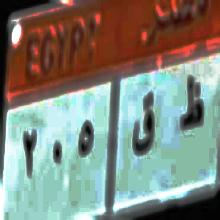0: (49, 126, 63, 175)
2: (22, 124, 39, 182)
5: (75, 118, 97, 158)
Thaa: (179, 76, 204, 143)
qaaf: (131, 90, 155, 162)
